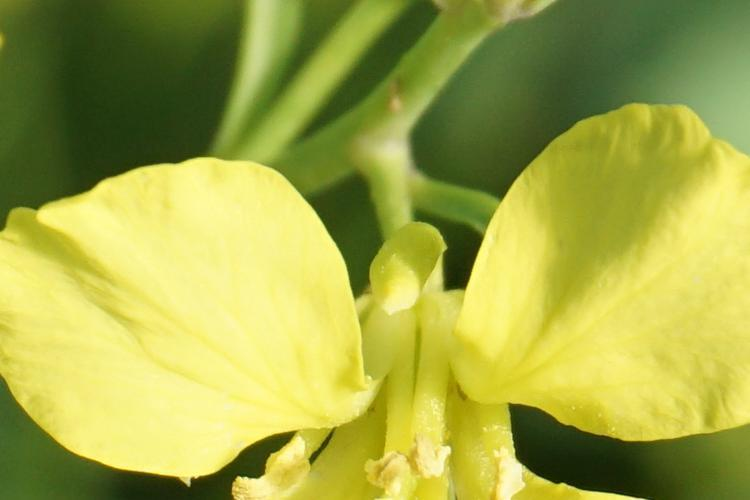yellow: (10, 173, 749, 497)
